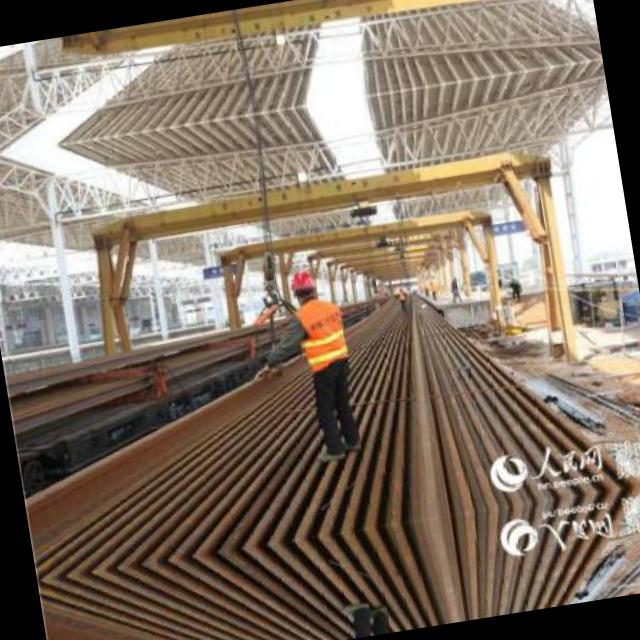helmet: (284, 266, 320, 308)
